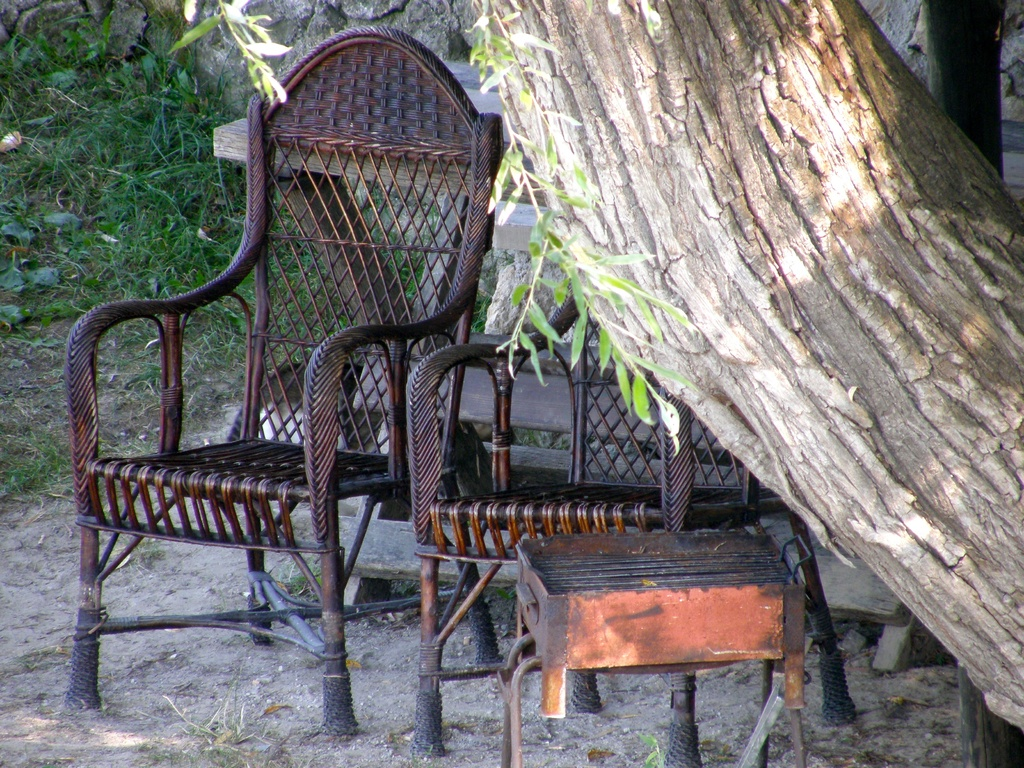Tree: (168, 0, 1024, 732)
